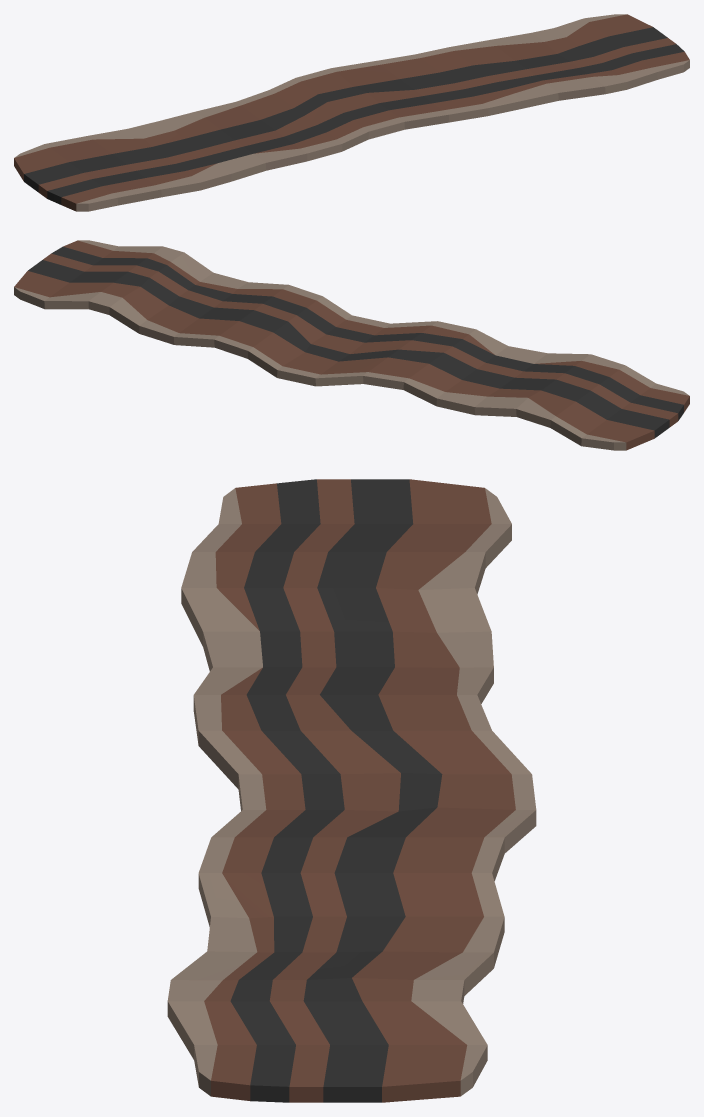
File: bacon_burned.glb
3 renders of one model, top to bottom at view 1: azimuth 30°, elevation 25°; view 2: azimuth 150°, elevation 25°; view 3: azimuth 270°, elevation 25°, orthographic. The views are drawn at different scales.
Parts seen in each view (by area): view 1: Bacon_Burned; view 2: Bacon_Burned; view 3: Bacon_Burned.
Part boxes in pixels (x1,y1,x2,y2): Bacon_Burned: (14,14,689,211); Bacon_Burned: (14,240,689,450); Bacon_Burned: (167,479,536,1102).
Size of the model in its own units: 1.16 by 0.0213 by 0.2968.
